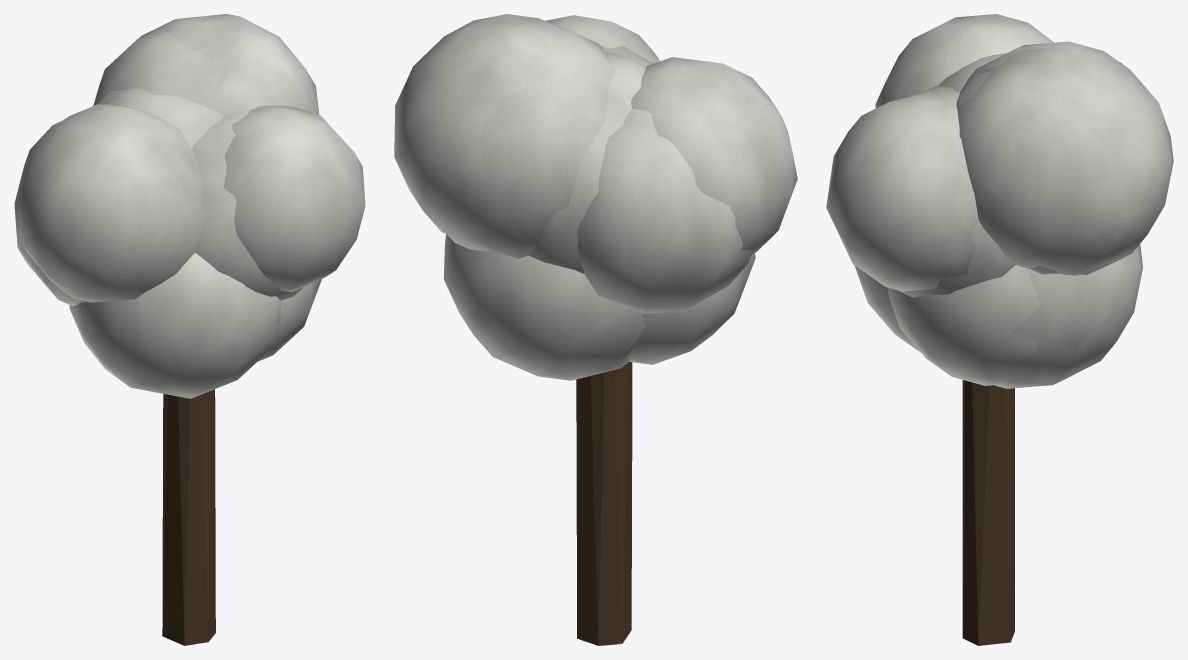
The model's file is strom_v1.glb.
The picture shows the model from 3 angles, left to right: view 1: azimuth 30°, elevation 25°; view 2: azimuth 150°, elevation 25°; view 3: azimuth 270°, elevation 25°; orthographic projection. The views are drawn at different scales.
Visible parts, largest first — view 1: dum; view 2: dum; view 3: dum.
Part boxes in pixels (x1,y1,x2,y2): dum: (14, 14, 365, 645); dum: (394, 14, 797, 645); dum: (826, 14, 1173, 645).
Bounding box in the file's own units: 3.59 × 6.31 × 3.28.
Materials: 1 (1 with a texture image).
